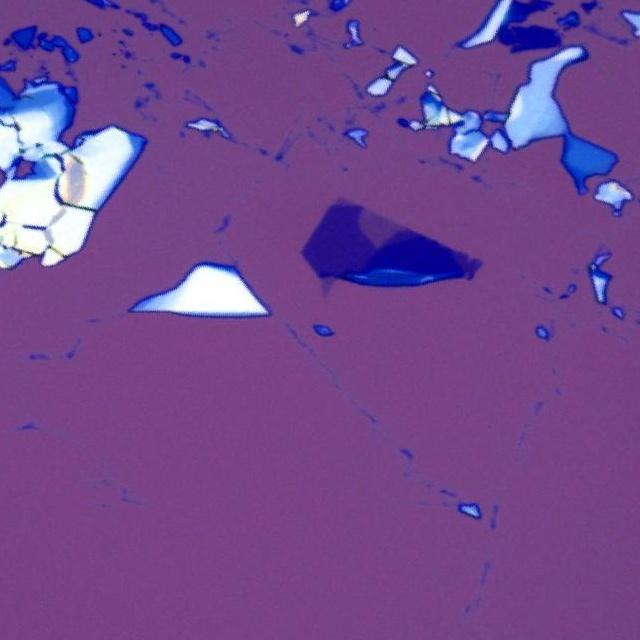monolayer-eWW4: (358, 206, 404, 251), (318, 275, 338, 299), (331, 194, 358, 207)
